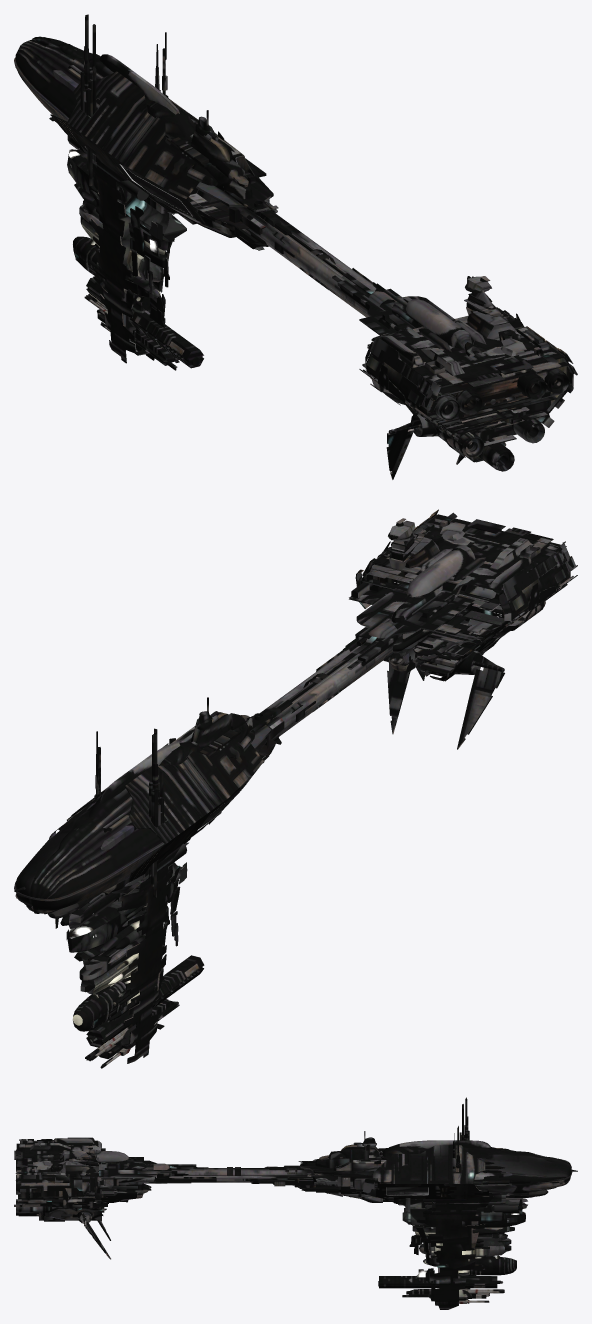
File: nebulonb.fbx
3 renders of one model, top to bottom at view 1: azimuth 30°, elevation 25°; view 2: azimuth 150°, elevation 25°; view 3: azimuth 270°, elevation 25°, orthographic. The views are drawn at different scales.
Visible parts, largest first — view 1: 𝓔𝓕76 𝓝𝓮𝓫𝓾𝓵𝓸𝓷-𝓑; view 2: 𝓔𝓕76 𝓝𝓮𝓫𝓾𝓵𝓸𝓷-𝓑; view 3: 𝓔𝓕76 𝓝𝓮𝓫𝓾𝓵𝓸𝓷-𝓑.
Part boxes in pixels (box(x1,y1,x2,y2)): 𝓔𝓕76 𝓝𝓮𝓫𝓾𝓵𝓸𝓷-𝓑: box(14, 14, 577, 479); 𝓔𝓕76 𝓝𝓮𝓫𝓾𝓵𝓸𝓷-𝓑: box(14, 509, 577, 1068); 𝓔𝓕76 𝓝𝓮𝓫𝓾𝓵𝓸𝓷-𝓑: box(14, 1097, 577, 1309).
Bounding box in the file's own units: 82754 × 176412 × 449417.
